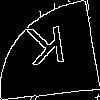K: (25, 25, 69, 76)
